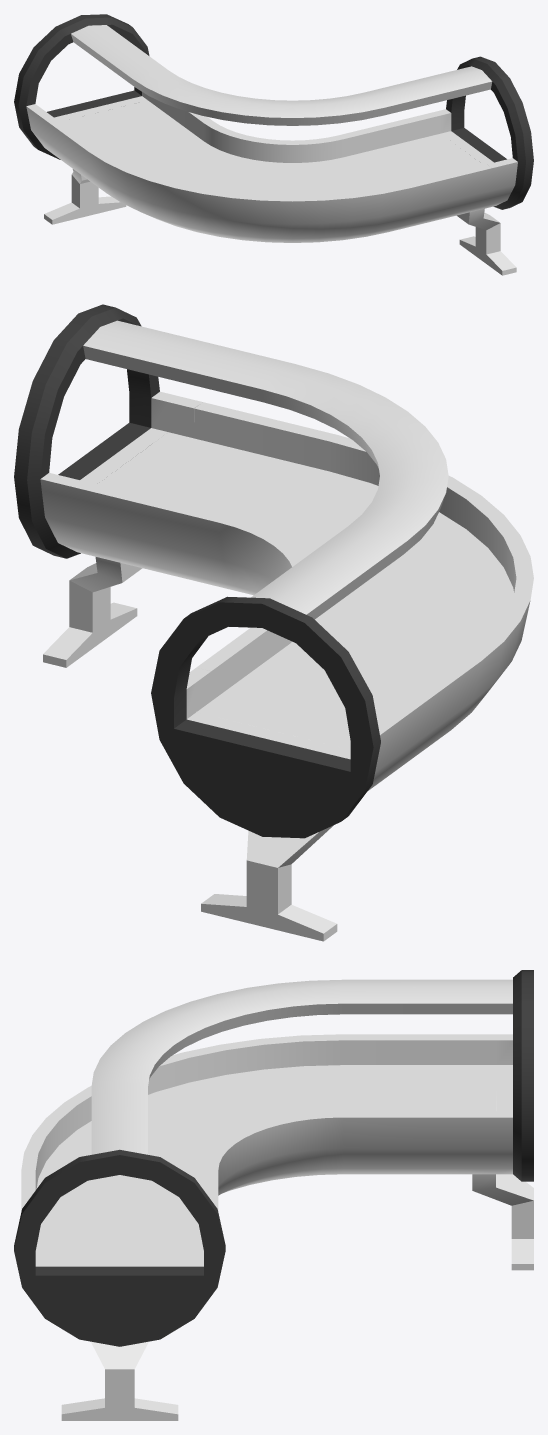
File: ConveyorHousing_Turn.fbx
3 renders of one model, top to bottom at view 1: azimuth 30°, elevation 25°; view 2: azimuth 150°, elevation 25°; view 3: azimuth 270°, elevation 25°, orthographic. The views are drawn at different scales.
Visible parts, largest first — view 1: ConveyorHousing_S_Turn; view 2: ConveyorHousing_S_Turn; view 3: ConveyorHousing_S_Turn.
Part boxes in pixels (x1,y1,x2,y2): ConveyorHousing_S_Turn: (14, 14, 533, 275); ConveyorHousing_S_Turn: (14, 304, 533, 941); ConveyorHousing_S_Turn: (14, 970, 533, 1420).
Size of the model in its own units: 62.78 by 35.41 by 62.78.
